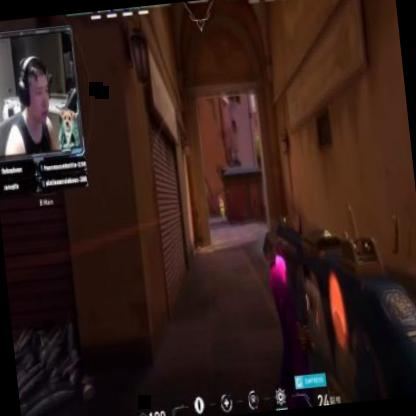enemy: (218, 197, 226, 217)
enemy_head: (219, 198, 221, 202)
